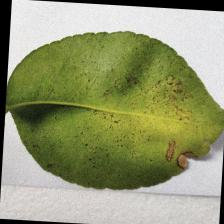canker: (108, 56, 181, 119)
